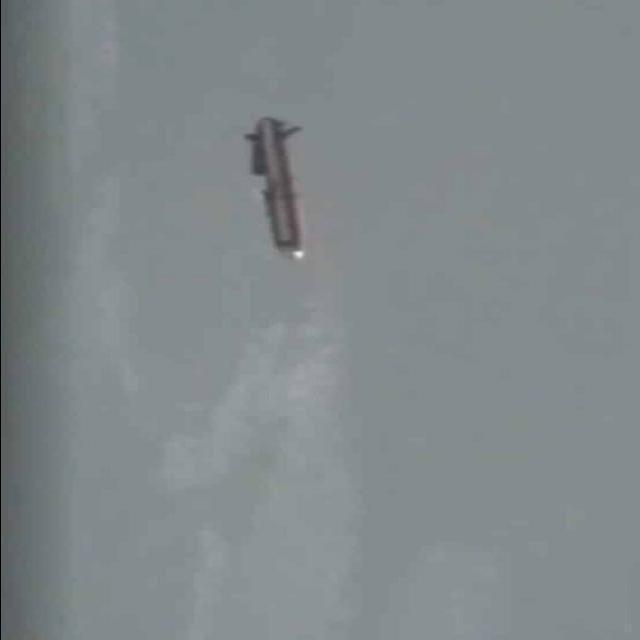missile: (244, 116, 309, 260)
